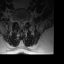CCS_normal: (20, 19, 23, 29)
LFS_normal: (25, 17, 27, 25)
LLS_normal: (22, 19, 25, 27)
RFS_normal: (16, 17, 18, 24)
RLS_normal: (17, 18, 20, 27)
